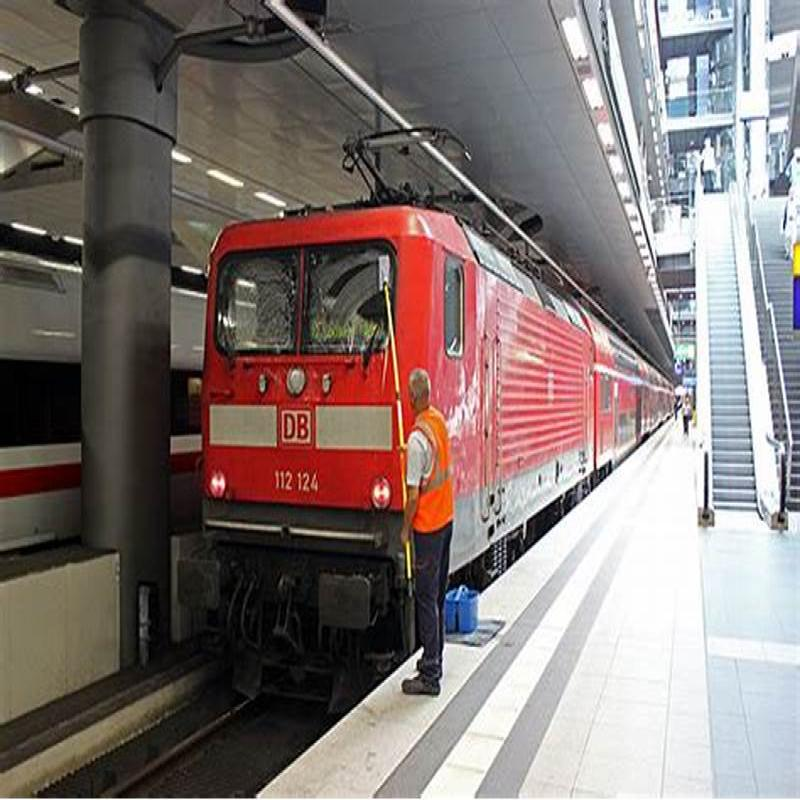train: (201, 199, 394, 641)
